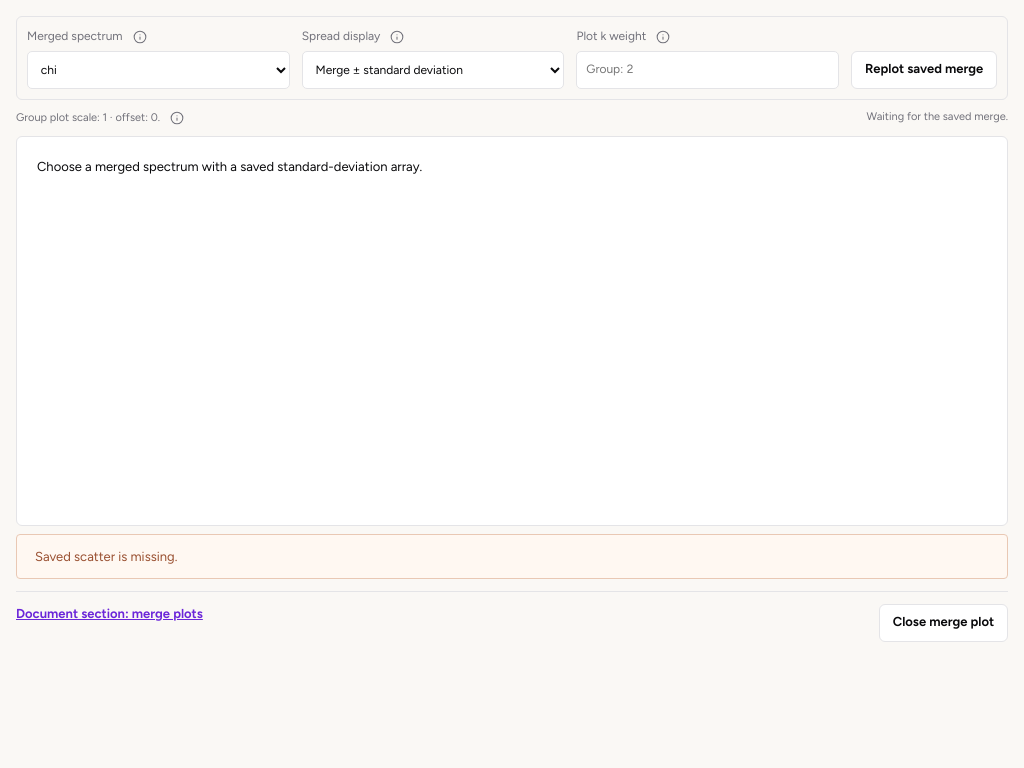
Test: disables invalid k weights and retries a failed read without changing group parameters
Expected: the message "Saved scatter is missing." is shown, x1=16 y1=534 x2=1008 y2=579
Click the button "Replot saved merge". click: (924,70)
box: x1=851 y1=51 x2=997 y2=89
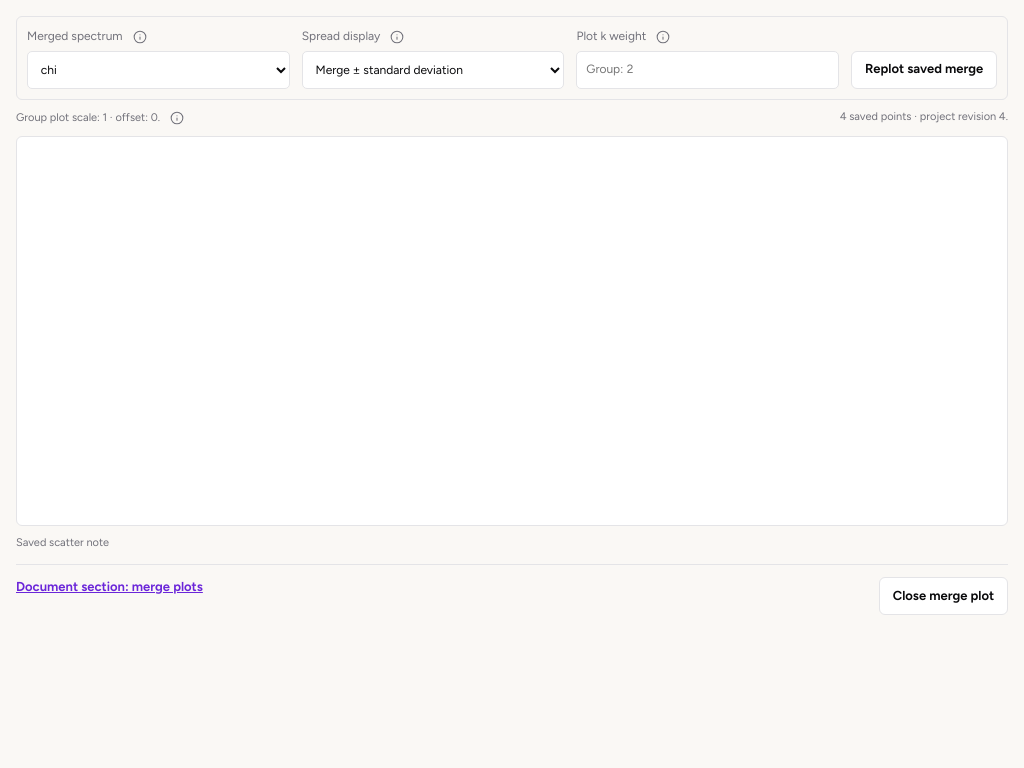
Expected: the text "4 saved points · project revision 4." is shown, x1=840 y1=109 x2=1008 y2=126
Type "-1" into the number field named "Saved merge k weight". click: (708,70)
box: x1=576 y1=51 x2=839 y2=89
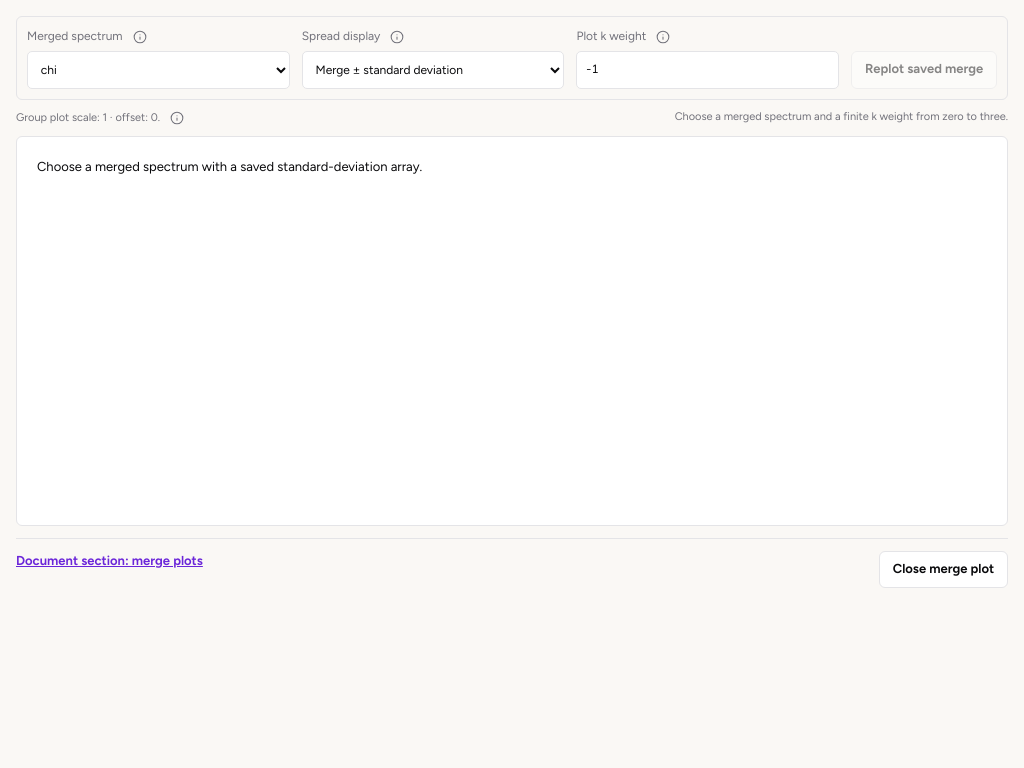
Expected: the button "Replot saved merge" is disabled, x1=851 y1=51 x2=997 y2=89
Replace the text in the number field named "Saved merge k weight" with "1.5". click: (708,70)
box: x1=576 y1=51 x2=839 y2=89
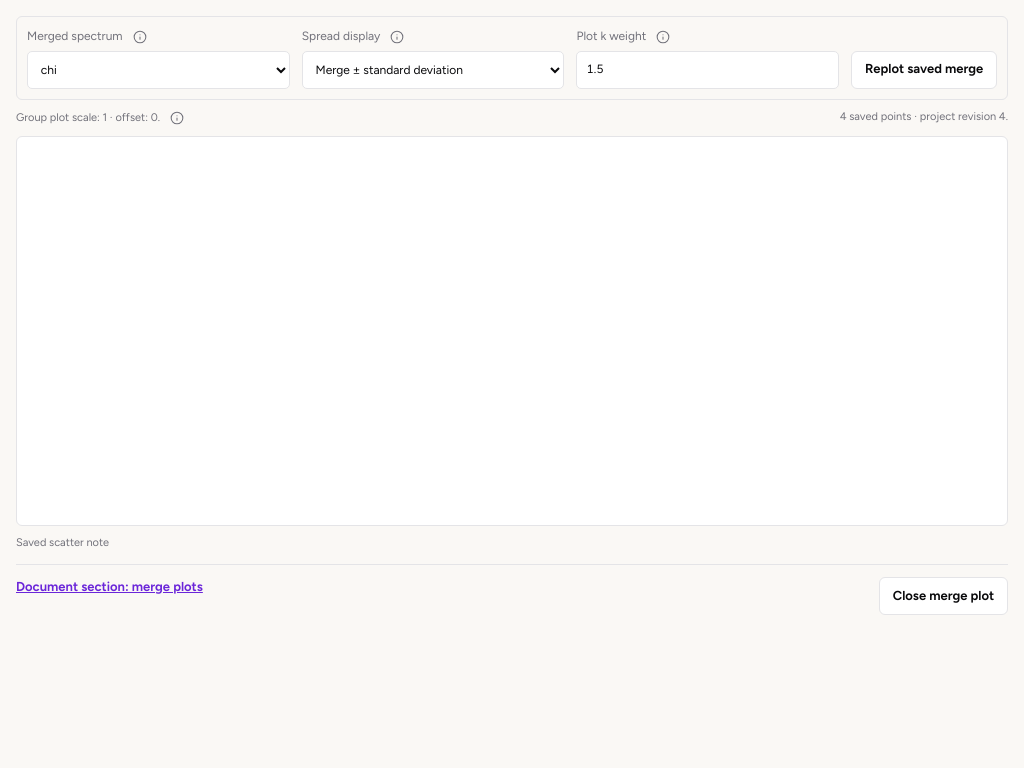
Expected: the text "4 saved points · project revision 4." is shown, x1=840 y1=109 x2=1008 y2=126
